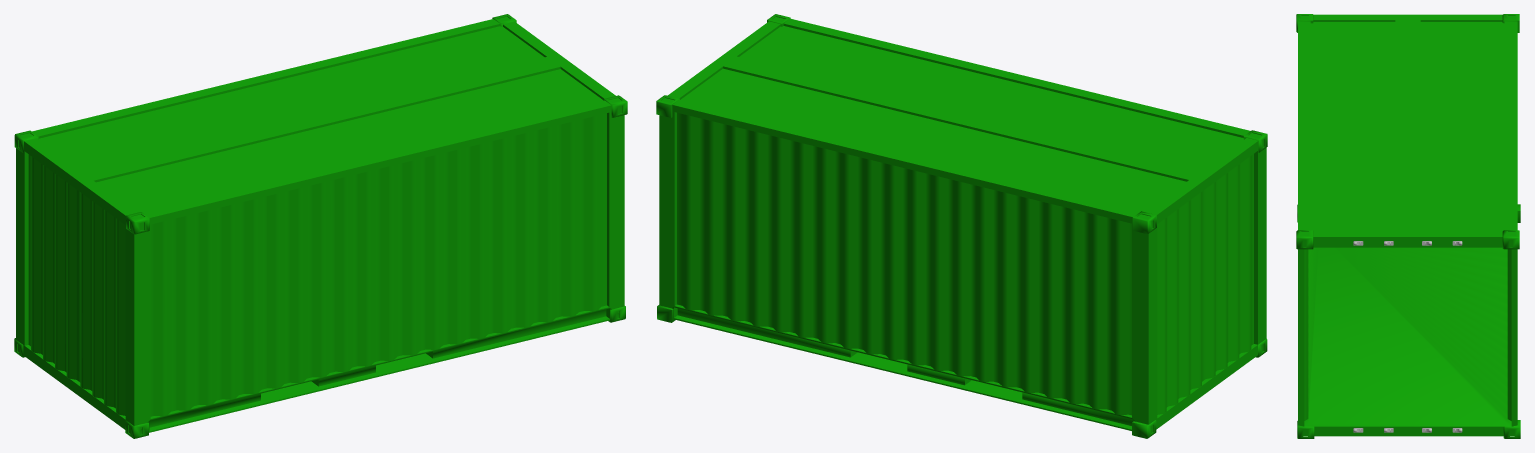
File: Container.fbx
3 views of the same model, side by side, from view 1: azimuth 30°, elevation 25°; view 2: azimuth 150°, elevation 25°; view 3: azimuth 270°, elevation 25° (orthographic). The views are drawn at different scales.
Visible parts, largest first — view 1: Container; view 2: Container; view 3: Container.
Part boxes in pixels (<box>): Container: <box>14,14,627,438</box>; Container: <box>656,14,1267,438</box>; Container: <box>1296,14,1520,438</box>.
Size of the model in its own units: 6.07 by 2.56 by 2.57.
